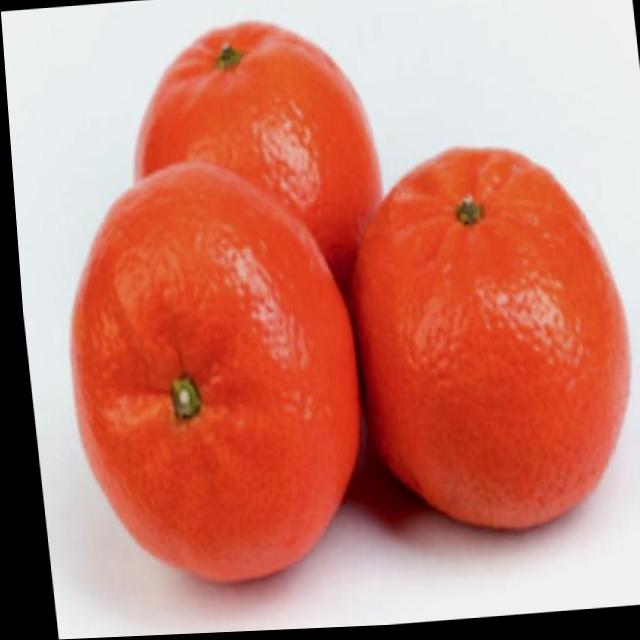Orange: (45, 150, 372, 595), (331, 138, 640, 545), (116, 13, 389, 302)
